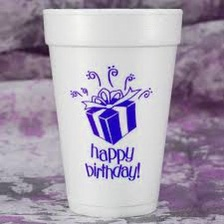paper_cup: (36, 1, 187, 221)
